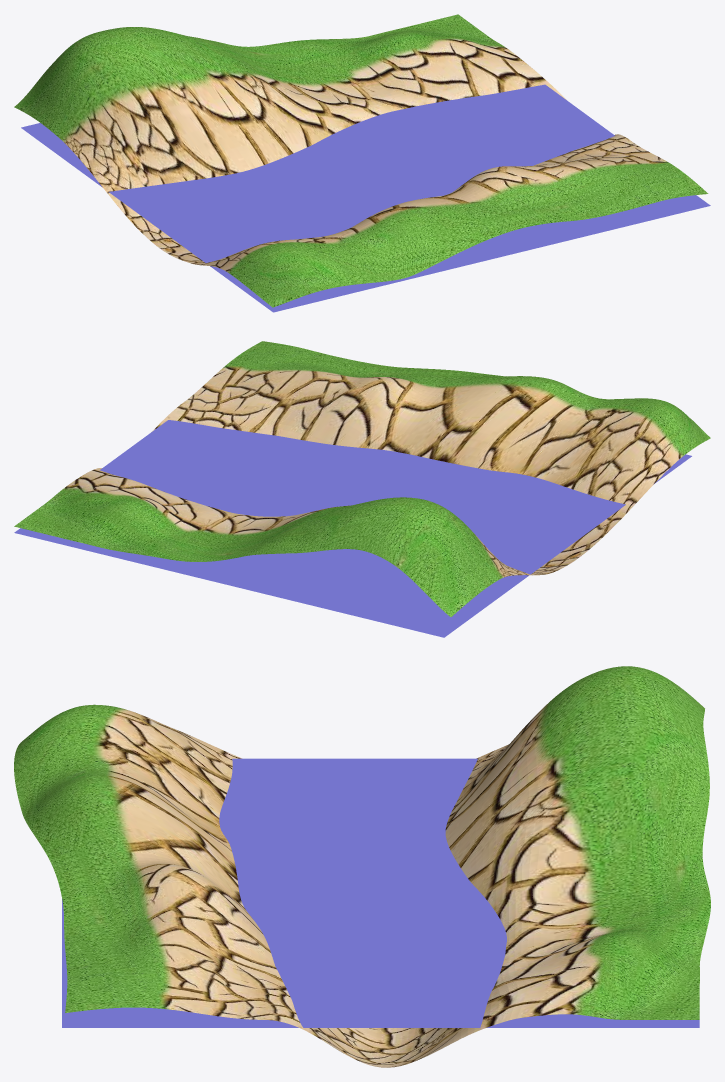
File: world.glb
3 views of the same model, one above another, from view 1: azimuth 30°, elevation 25°; view 2: azimuth 150°, elevation 25°; view 3: azimuth 270°, elevation 25° (orthographic). The views are drawn at different scales.
Parts seen in each view (by area): view 1: maa, vesi; view 2: maa, vesi; view 3: maa, vesi.
Boxes of the visible parts, <box> form: maa: <box>14,14,708,307</box>; vesi: <box>21,84,710,312</box>; maa: <box>14,341,710,616</box>; vesi: <box>14,420,691,637</box>; maa: <box>14,666,710,1067</box>; vesi: <box>62,758,699,1027</box>.
Bounding box in the file's own units: 53.92 × 17.14 × 54.65.
2 materials, 1 textured.
